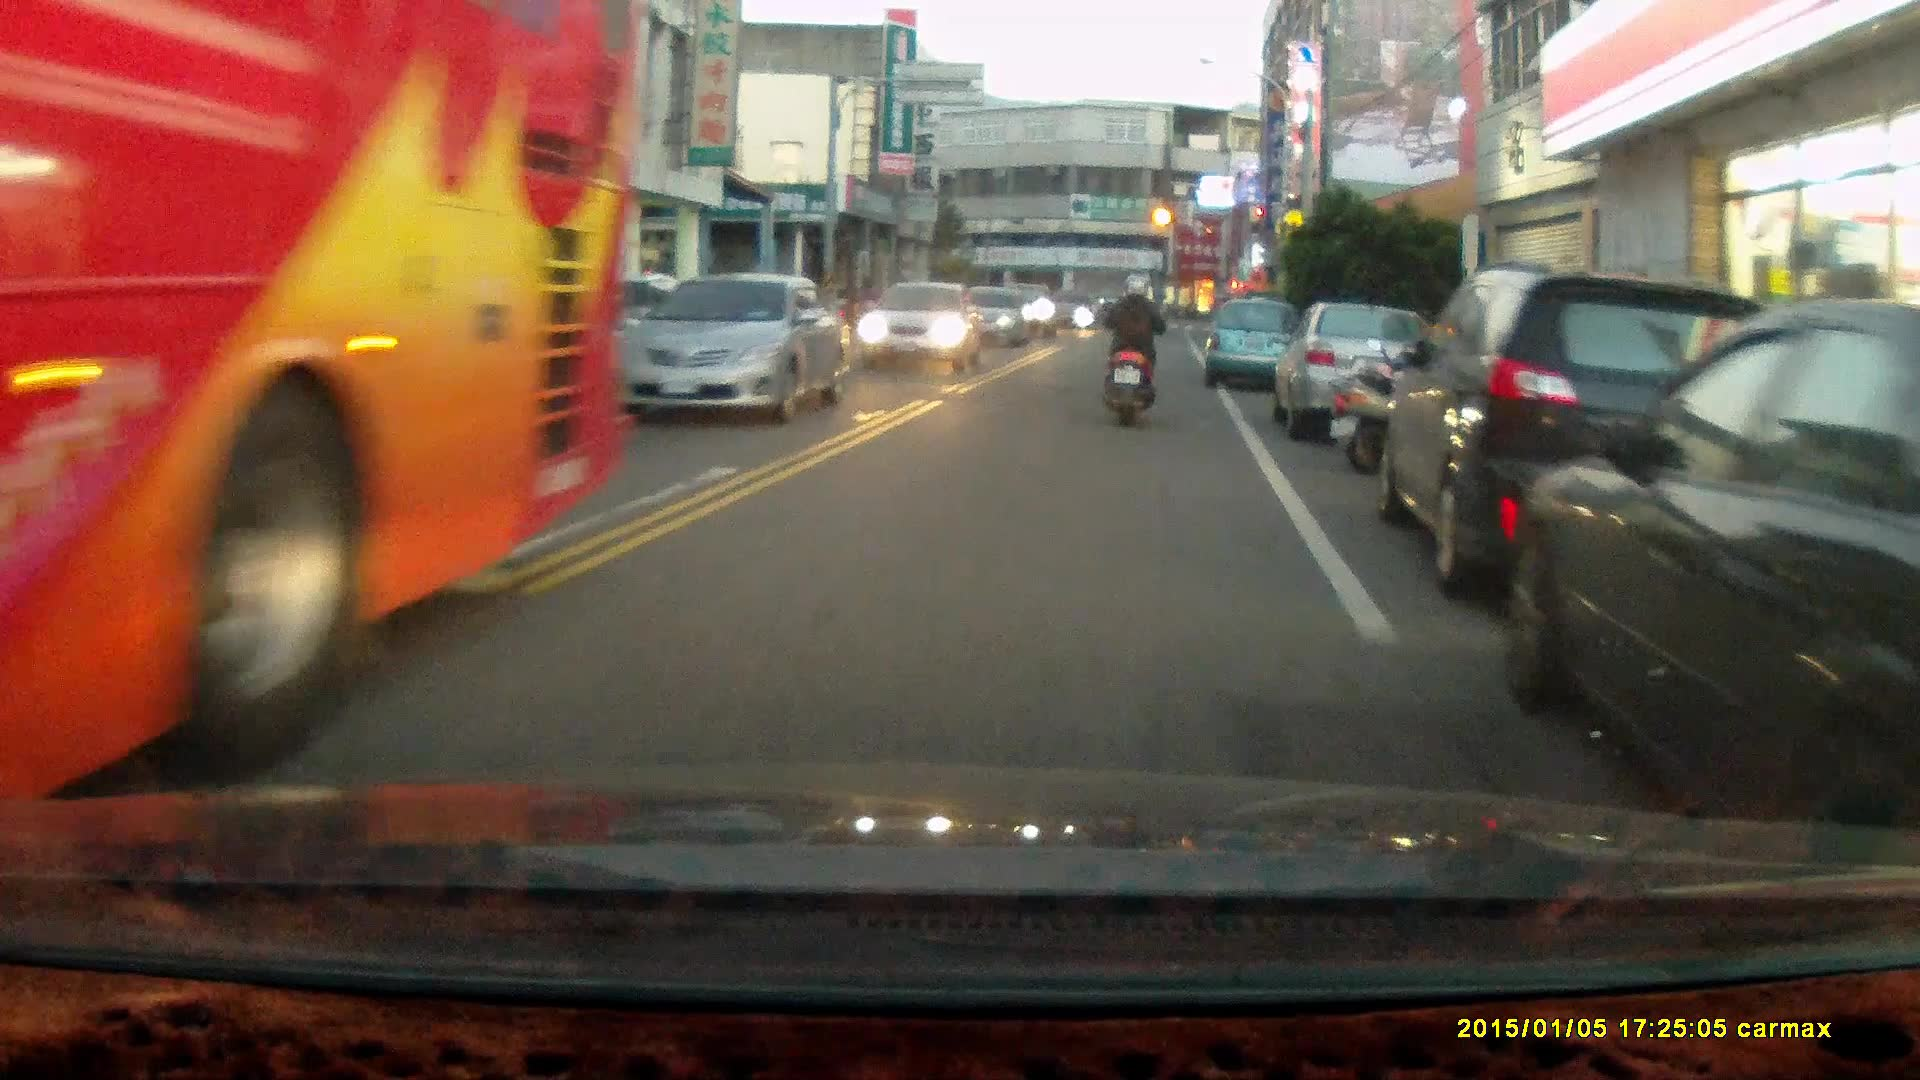rider: (1096, 274, 1164, 432)
vehicle: (1, 9, 633, 803), (1503, 300, 1920, 877), (1376, 265, 1842, 599), (608, 274, 857, 415), (1278, 304, 1452, 450), (859, 283, 984, 376), (1201, 301, 1304, 399), (947, 286, 1030, 352)
